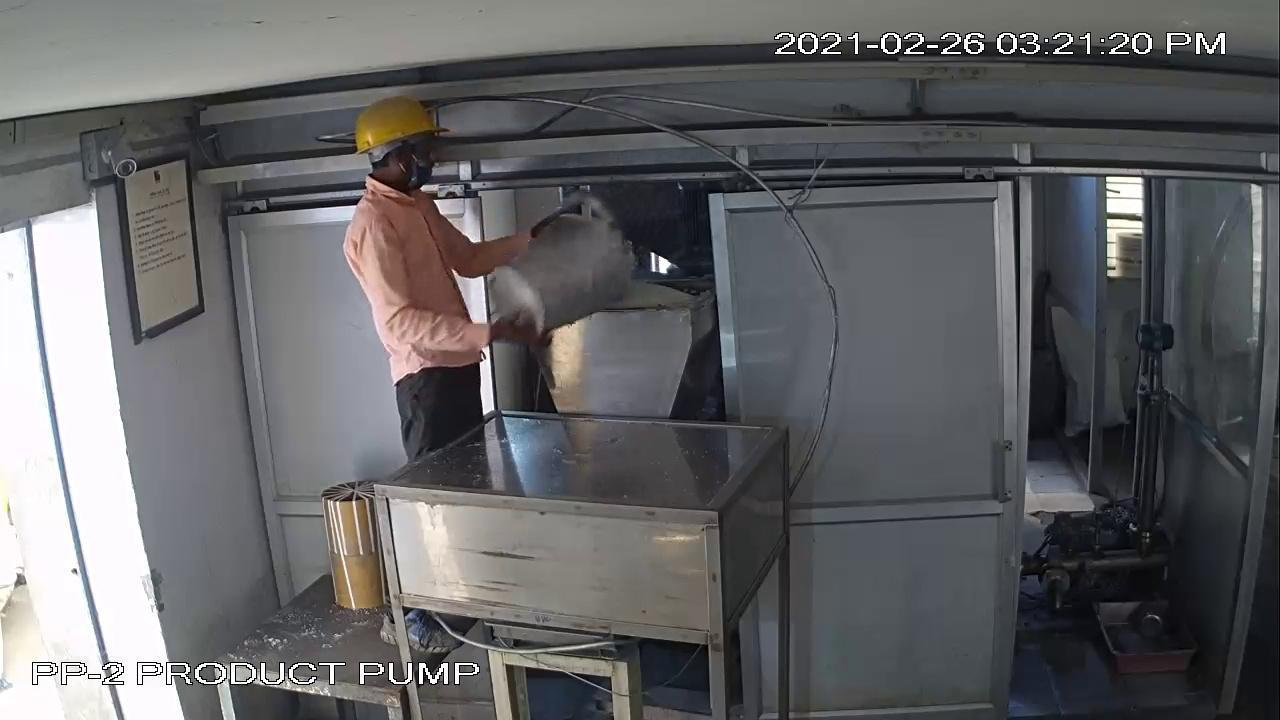helmet: (346, 83, 458, 179)
